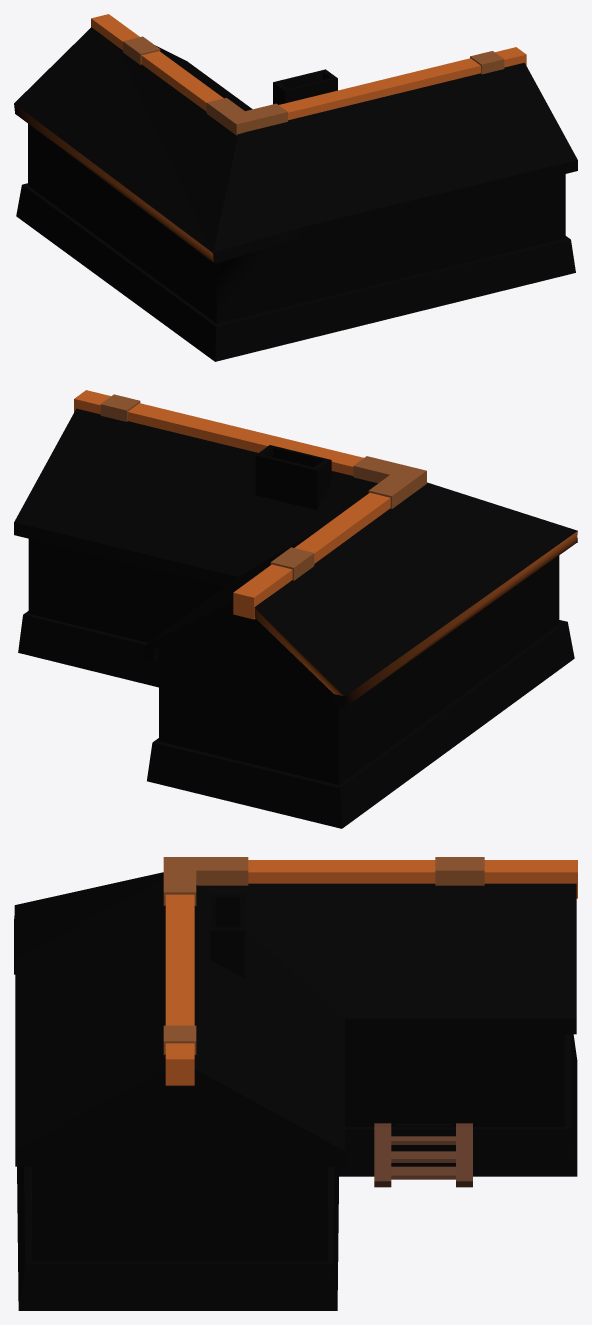
The model's file is domek3.FBX.
3 views of the same model, one above another, from view 1: azimuth 30°, elevation 25°; view 2: azimuth 150°, elevation 25°; view 3: azimuth 270°, elevation 25° (orthographic). The views are drawn at different scales.
Visible parts, largest first — view 1: Box024; view 2: Box024; view 3: Box024.
Part boxes in pixels (box(x1,y1,x2,y2)): Box024: box(14, 14, 577, 361); Box024: box(14, 390, 577, 828); Box024: box(14, 857, 577, 1310).
Bounding box in the file's own units: 97.26 × 47.24 × 91.68.
